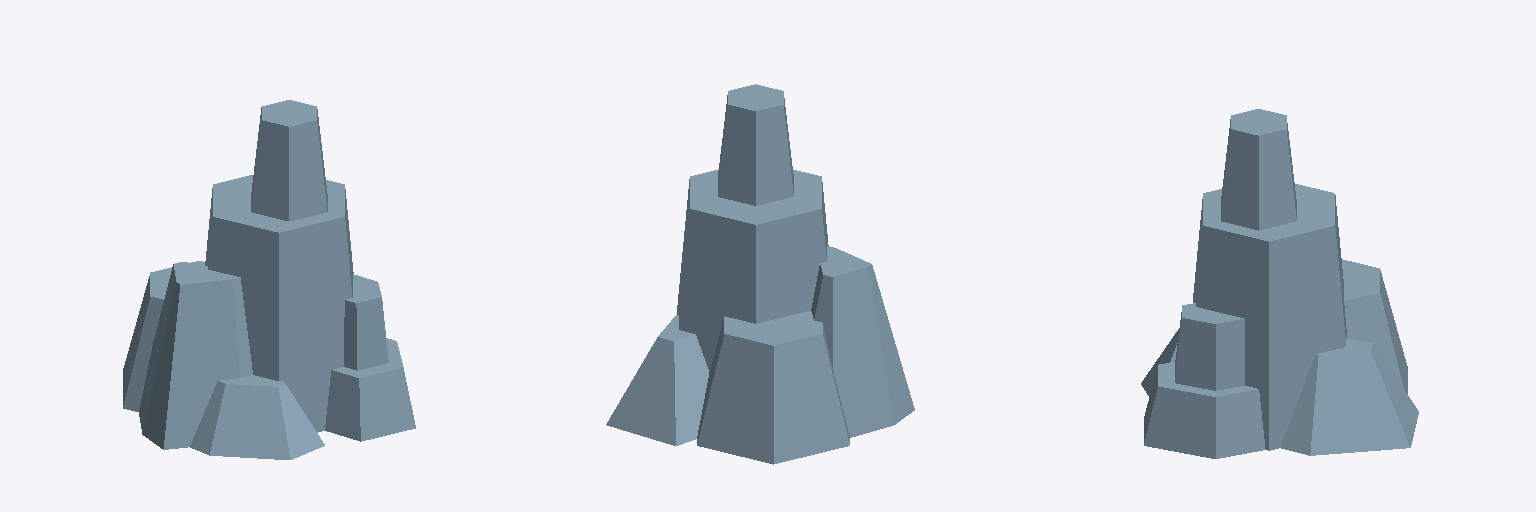
File: formation_stone.obj
3 renders of one model, left to right at view 1: azimuth 30°, elevation 25°; view 2: azimuth 150°, elevation 25°; view 3: azimuth 270°, elevation 25°, orthographic.
Parts seen in each view (by area): view 1: formation_stone; view 2: formation_stone; view 3: formation_stone.
Boxes of the visible parts, box(x1,y1,x2,y2) form: formation_stone: box(123, 100, 415, 459); formation_stone: box(606, 84, 914, 464); formation_stone: box(1141, 109, 1418, 458).
Size of the model in its own units: 10.6 by 12.25 by 10.67.